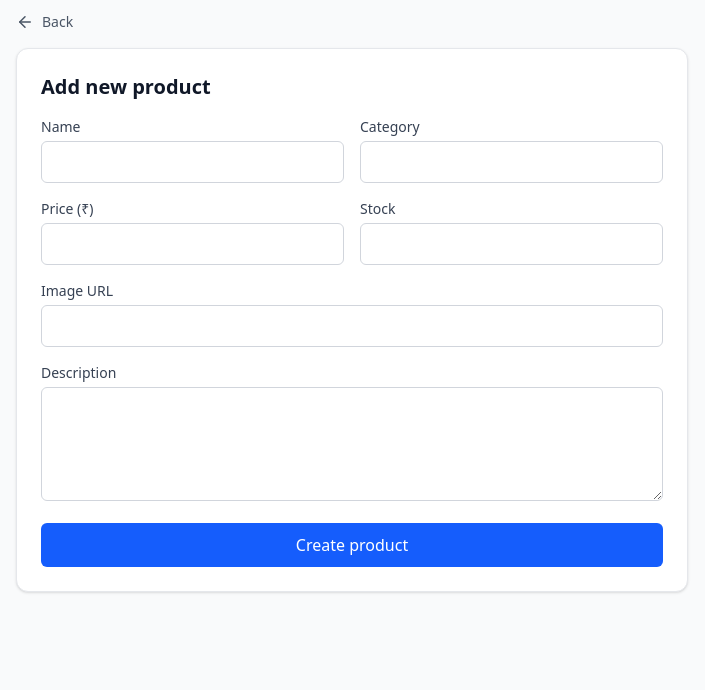
Test: ProductFormPage › add mode › validation › shows every error and sends nothing when the form is empty
This screenshot has width=705, height=690.
Click the button "Create product". click: coordinates (352, 545)
box: [41,523,663,567]
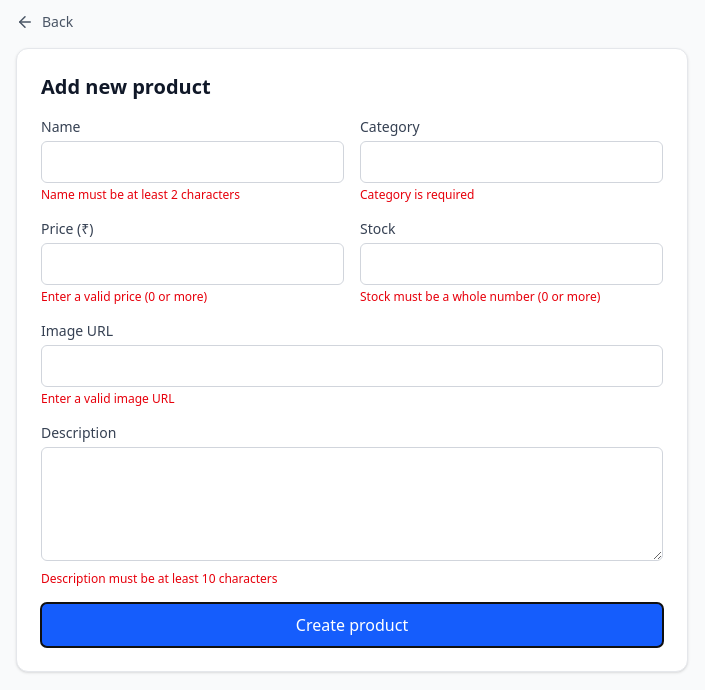
Expected: the text "Name must be at least 2 characters" is shown, [41,186,240,203]
Expected: the text "Category is required" is shown, [360,186,474,203]
Expected: the text "Enter a valid price (0 or more)" is shown, [41,288,207,305]
